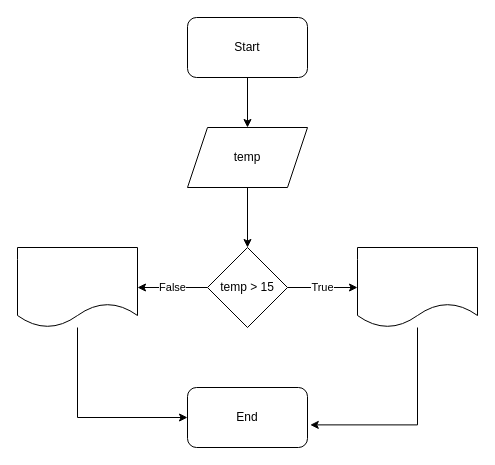
This 495x465 diagram has some shape labels left out. The shapes that lost their labels are listed below. From the top down, each one's centre as x and y in pixels, then its label:
At point 77,287: "Hava soyuqdur".
At point 417,287: "Hava istidir".
